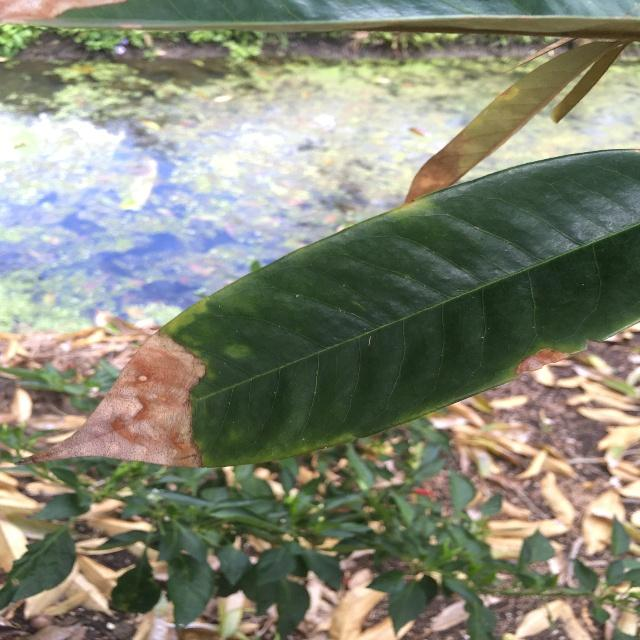Leaf Blight: (21, 143, 640, 476)
